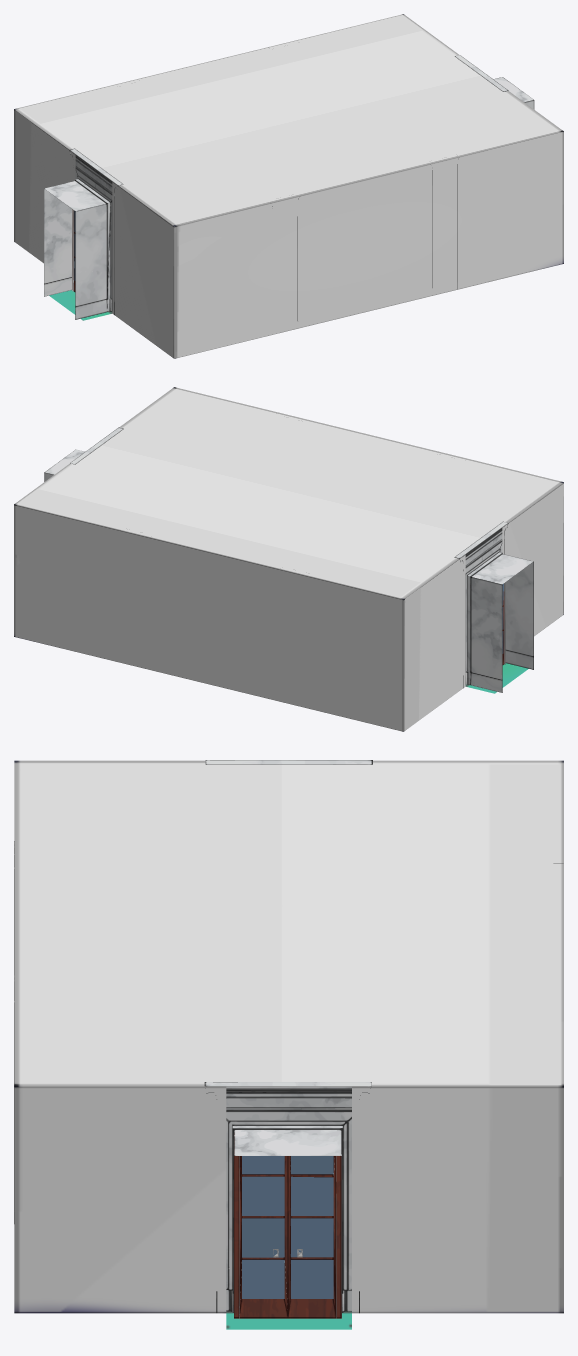
The model's file is 01_Room.fbx.
3 views of the same model, one above another, from view 1: azimuth 30°, elevation 25°; view 2: azimuth 150°, elevation 25°; view 3: azimuth 270°, elevation 25° (orthographic). The views are drawn at different scales.
Visible parts, largest first — view 1: Cube.001, TuerBogen_Master.001, TuerBogen_Master.002; view 2: Cube.001, TuerBogen_Master.001, TuerBogen_Master.002; view 3: Cube.001, Tuer_Master.002, TuerBogen_Master.002, TuerBogen_Master.001.
Part boxes in pixels (box(x1,y1,x2,y2)): Cube.001: box(14, 14, 563, 358); TuerBogen_Master.001: box(44, 148, 123, 319); TuerBogen_Master.002: box(455, 55, 534, 109); Cube.001: box(14, 387, 563, 731); TuerBogen_Master.001: box(454, 521, 533, 692); TuerBogen_Master.002: box(44, 427, 123, 481); Cube.001: box(14, 760, 563, 1329); Tuer_Master.002: box(234, 1133, 341, 1318); TuerBogen_Master.002: box(204, 1082, 371, 1313); TuerBogen_Master.001: box(205, 760, 372, 764).
Bounding box in the file's own units: 1682 × 465 × 1019.
